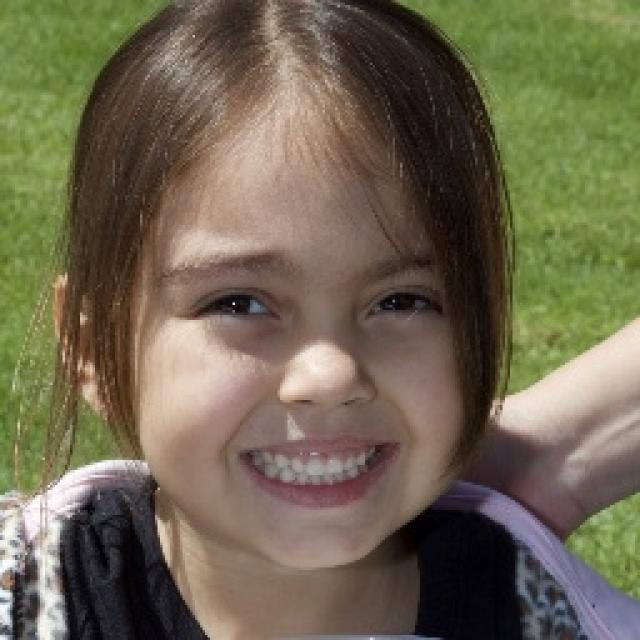earlobe: (77, 384, 121, 424)
eye: (362, 285, 452, 319), (198, 288, 281, 322)
nose: (282, 392, 373, 433)
wholeear: (54, 273, 122, 426)
